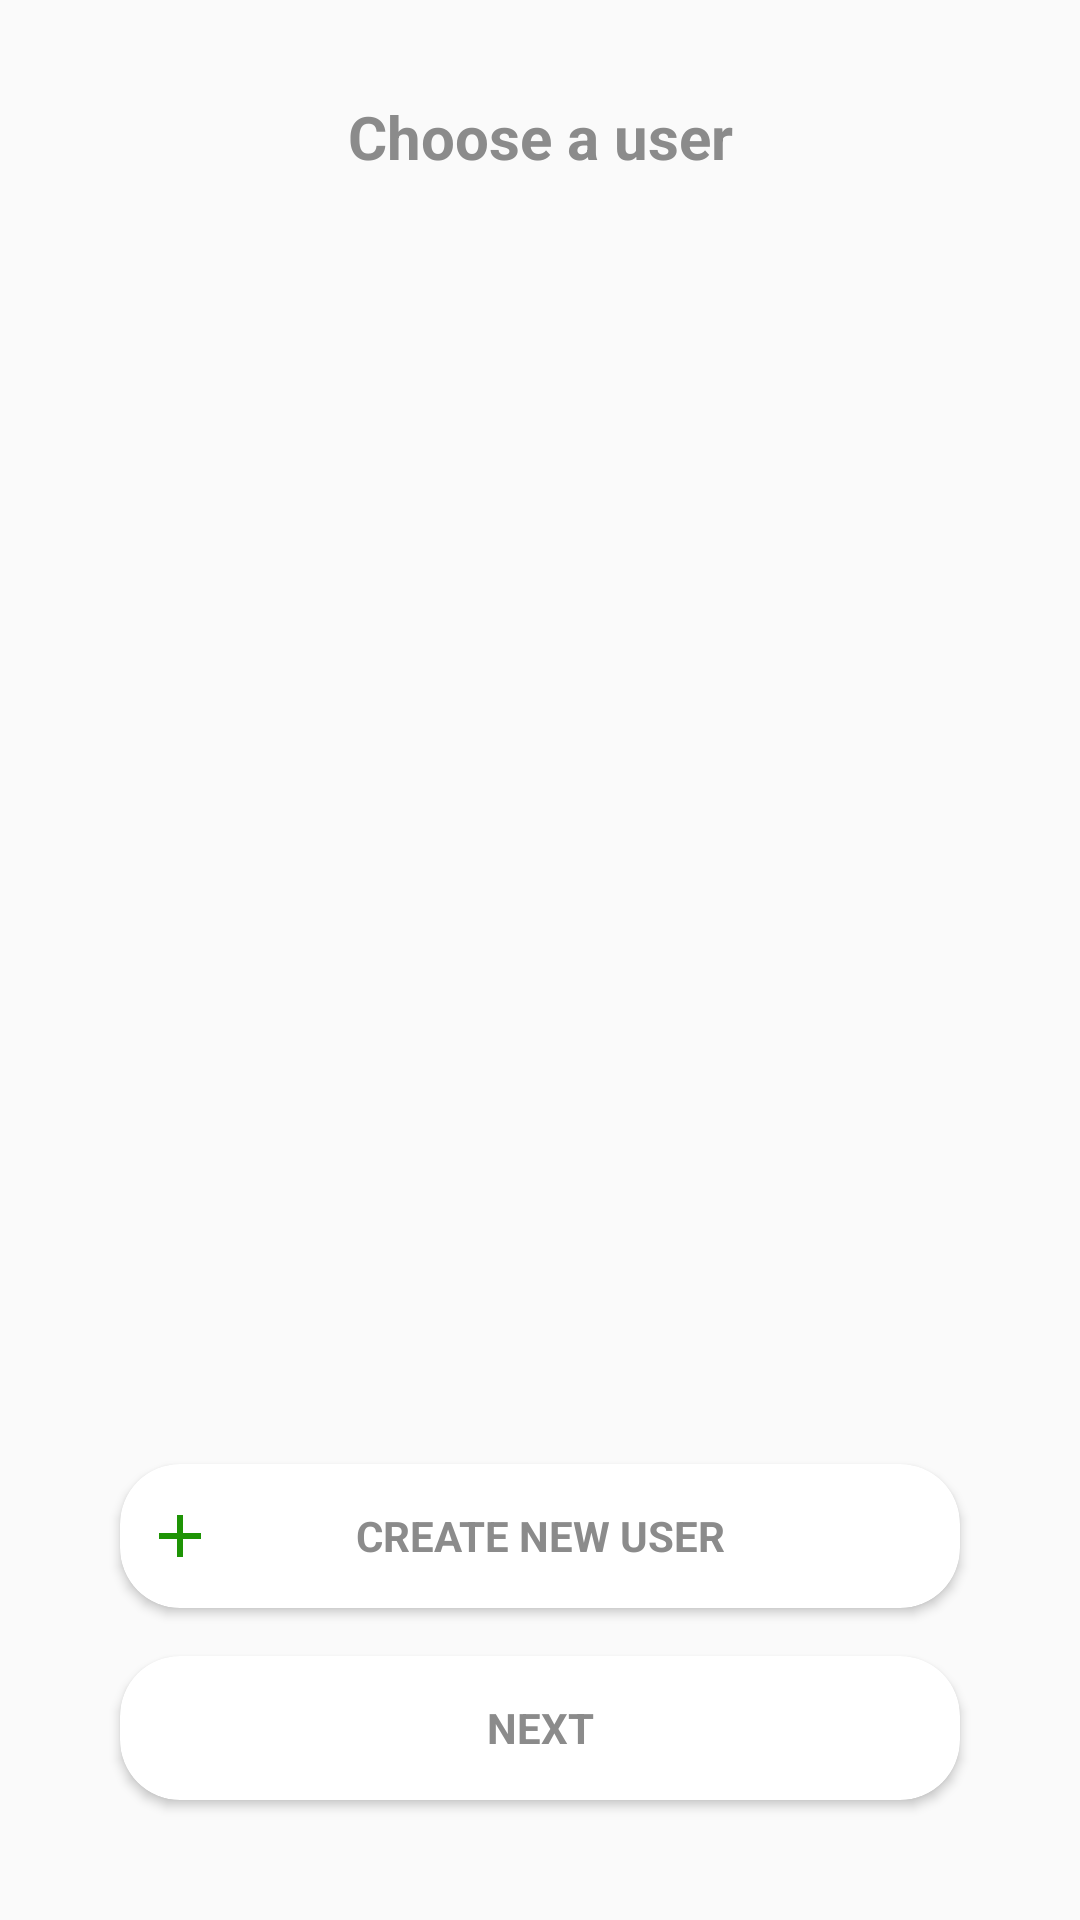

Named icons in this screenshot (1080w x 1920h) and their bounding boxes, (x1=x1, y1=y1, x2=x2, y2=y2):
add: (x1=159, y1=1515, x2=201, y2=1557)
